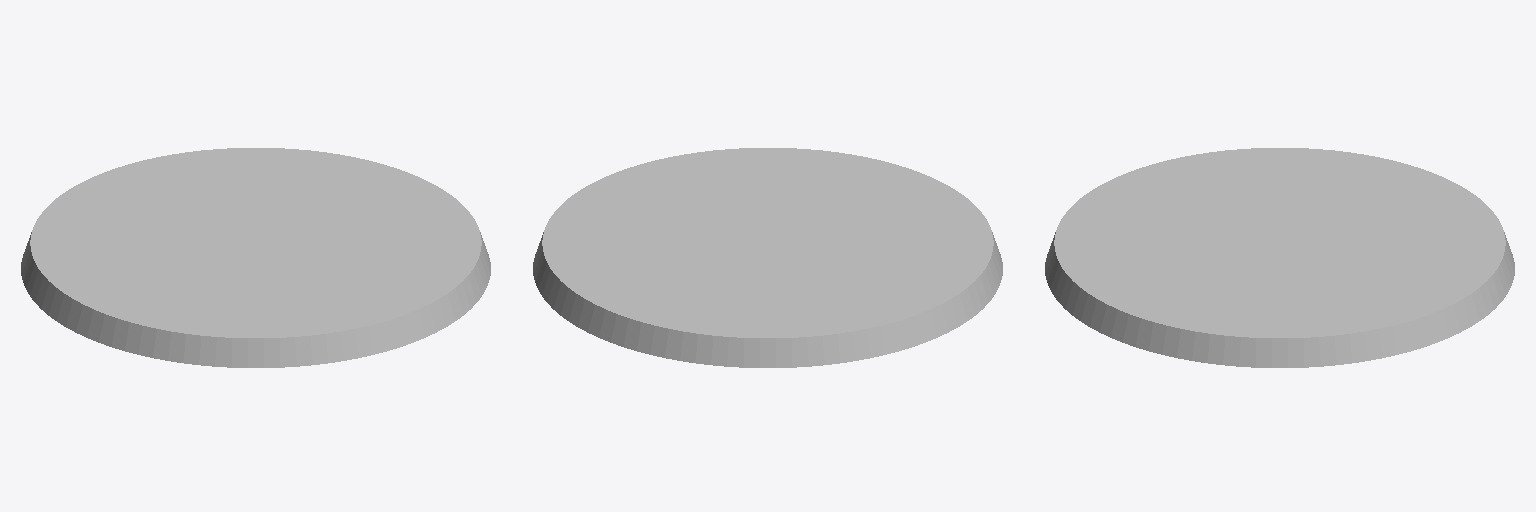
Rendered from Disc_25mm.obj.
3 views of the same model, side by side, from view 1: azimuth 30°, elevation 25°; view 2: azimuth 150°, elevation 25°; view 3: azimuth 270°, elevation 25° (orthographic).
Visible parts, largest first — view 1: Cylinder_Cylinder.002; view 2: Cylinder_Cylinder.002; view 3: Cylinder_Cylinder.002.
Part boxes in pixels (x1,y1,x2,y2): Cylinder_Cylinder.002: (21, 148, 490, 367); Cylinder_Cylinder.002: (533, 148, 1002, 367); Cylinder_Cylinder.002: (1045, 148, 1514, 367).
Bounding box in the file's own units: 1.02 × 0.0617 × 1.02.